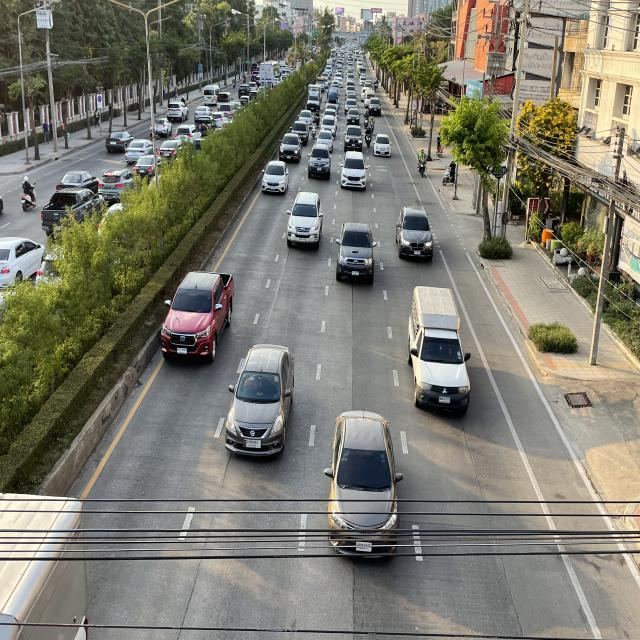bike: (417, 147, 427, 180)
car: (324, 409, 404, 560), (225, 342, 296, 461), (160, 267, 235, 364), (335, 219, 377, 288), (395, 205, 435, 263), (285, 191, 324, 250), (340, 151, 369, 191), (307, 143, 333, 181), (262, 160, 289, 194), (278, 134, 302, 162)
truck: (404, 282, 474, 419)
